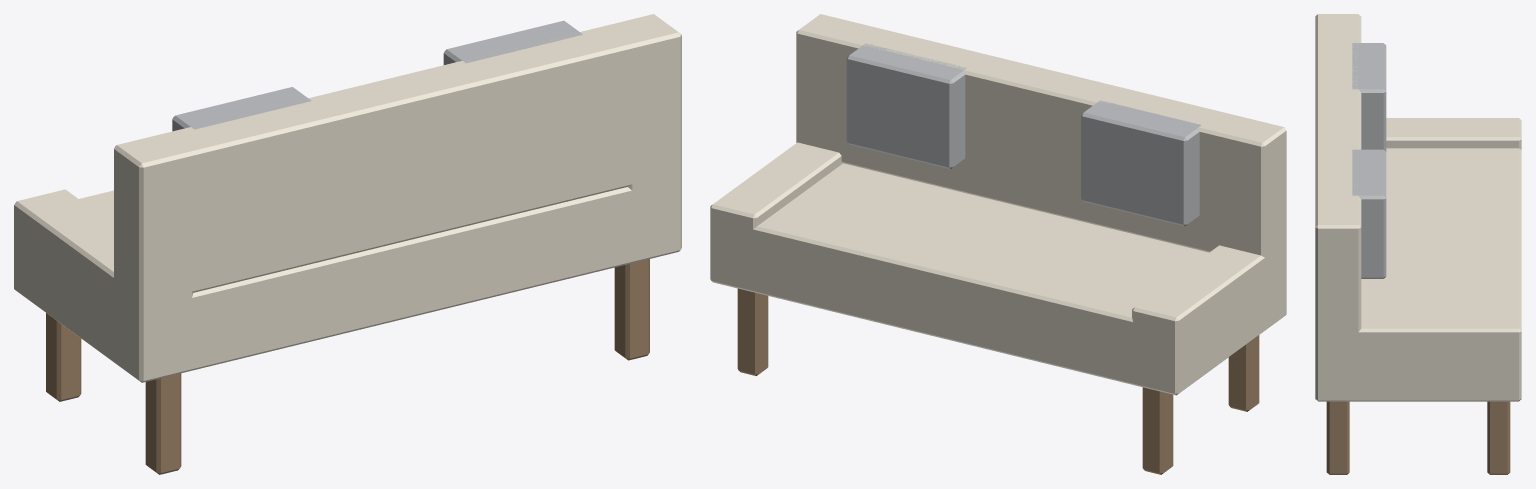
3 renders of one model, left to right at view 1: azimuth 30°, elevation 25°; view 2: azimuth 150°, elevation 25°; view 3: azimuth 270°, elevation 25°, orthographic. The views are drawn at different scales.
Visible parts, largest first — view 1: 靠背, 座垫, 扶手, 沙发腿, 靠垫; view 2: 座垫, 靠背, 靠垫, 扶手, 沙发腿; view 3: 座垫, 扶手, 靠背, 靠垫, 沙发腿.
Part boxes in pixels (x1,y1,x2,y2): 靠背: (114,14,681,302); 座垫: (14,178,681,381); 扶手: (14,164,681,382); 沙发腿: (46,259,649,474); 靠垫: (172,20,582,131); 座垫: (710,163,1286,395); 靠背: (796,14,1286,260); 靠垫: (846,43,1201,226); 扶手: (710,142,1286,394); 沙发腿: (737,288,1259,474); 座垫: (1315,148,1521,400); 扶手: (1315,118,1521,401); 靠背: (1315,14,1361,337); 靠垫: (1352,43,1386,278); 沙发腿: (1326,401,1510,474).
Bounding box in the file's own units: 220 × 125 × 90.
